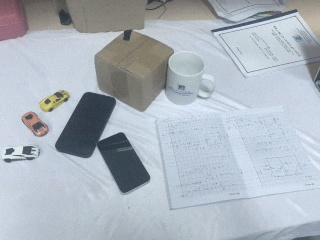box: (94, 29, 174, 112), (60, 1, 147, 34)
cup: (163, 50, 217, 106)
phone: (52, 91, 117, 159), (96, 130, 152, 195)
toy_car: (21, 111, 50, 137), (2, 145, 40, 163), (39, 90, 70, 112)
